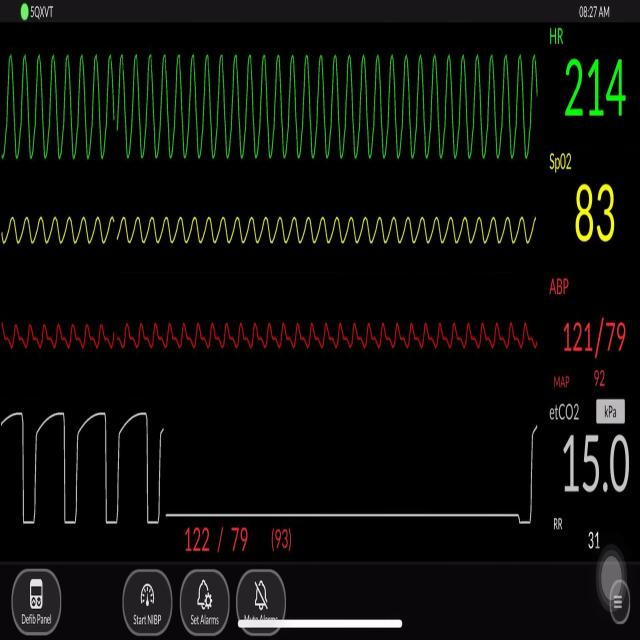danger: (124, 47, 538, 171), (4, 45, 107, 160)
